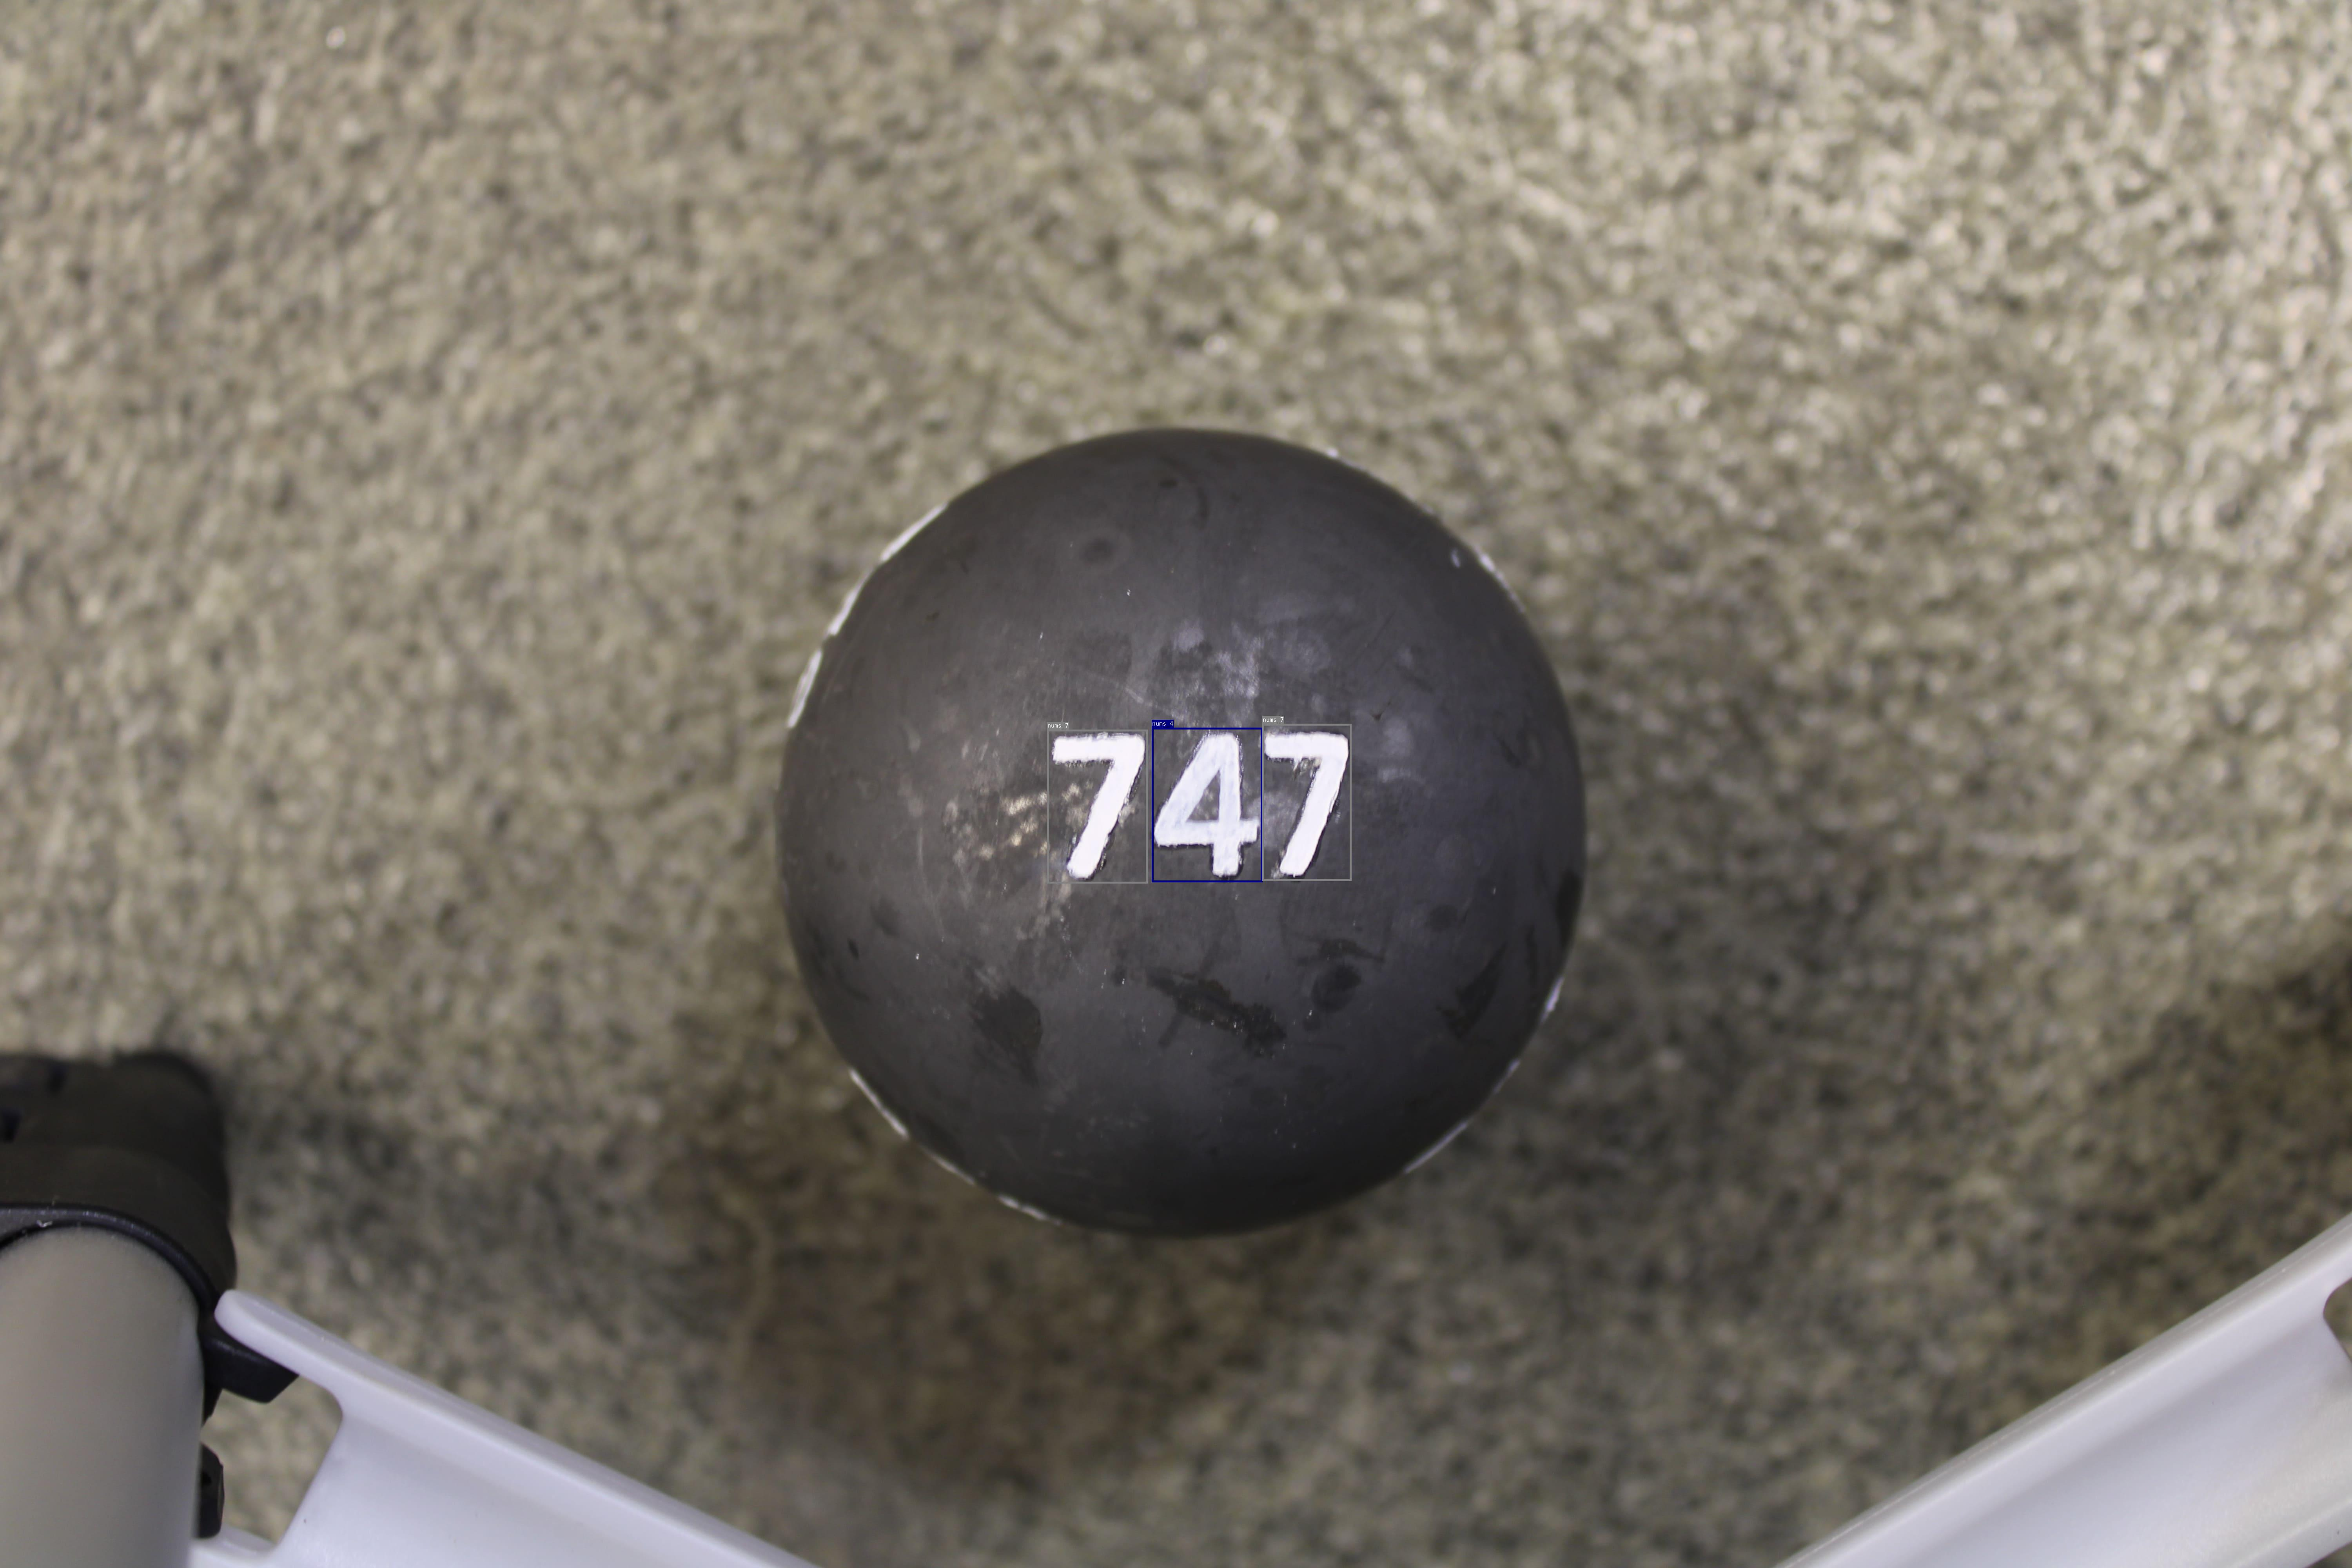nums_4: (1151, 728, 1262, 882)
nums_7: (1047, 730, 1148, 884), (1262, 724, 1351, 880)
